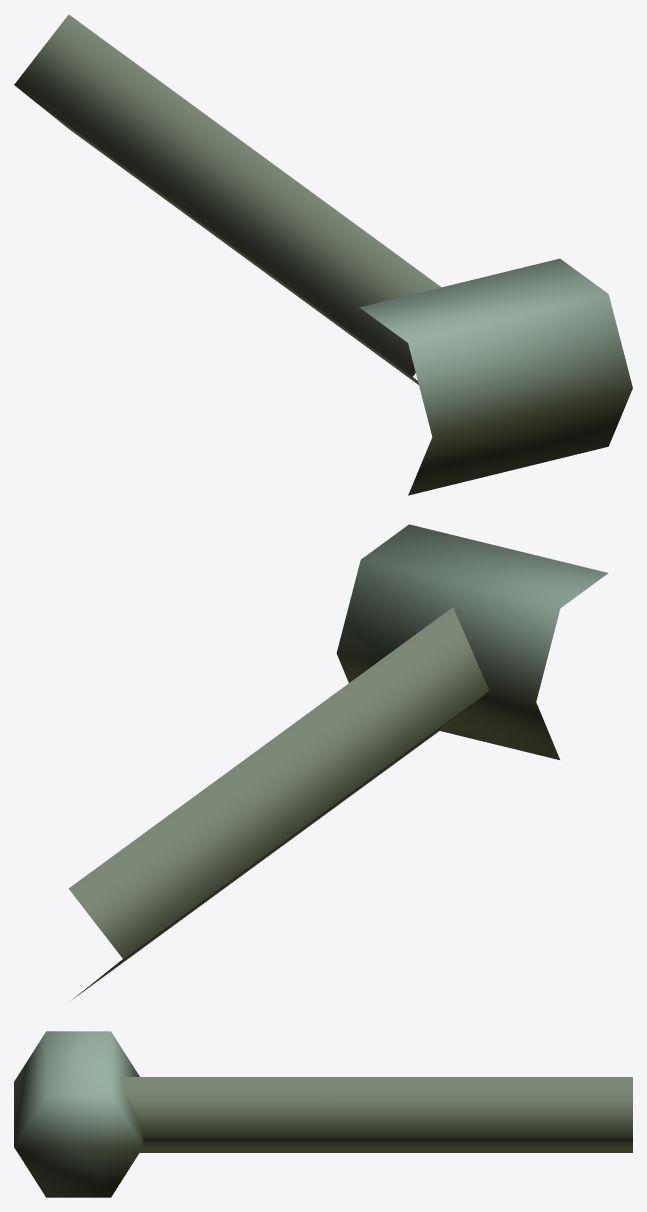
File: FootholdRight.gltf
3 renders of one model, top to bottom at view 1: azimuth 30°, elevation 25°; view 2: azimuth 150°, elevation 25°; view 3: azimuth 270°, elevation 25°, orthographic. The views are drawn at different scales.
Visible parts, largest first — view 1: FootholdRightMesh; view 2: FootholdRightMesh; view 3: FootholdRightMesh.
Boxes of the visible parts, x1,y1,x2,y2 form: FootholdRightMesh: [14, 14, 632, 495]; FootholdRightMesh: [68, 524, 608, 999]; FootholdRightMesh: [14, 1031, 632, 1197].
Size of the model in its own units: 0.1988 by 0.1445 by 0.7987.
